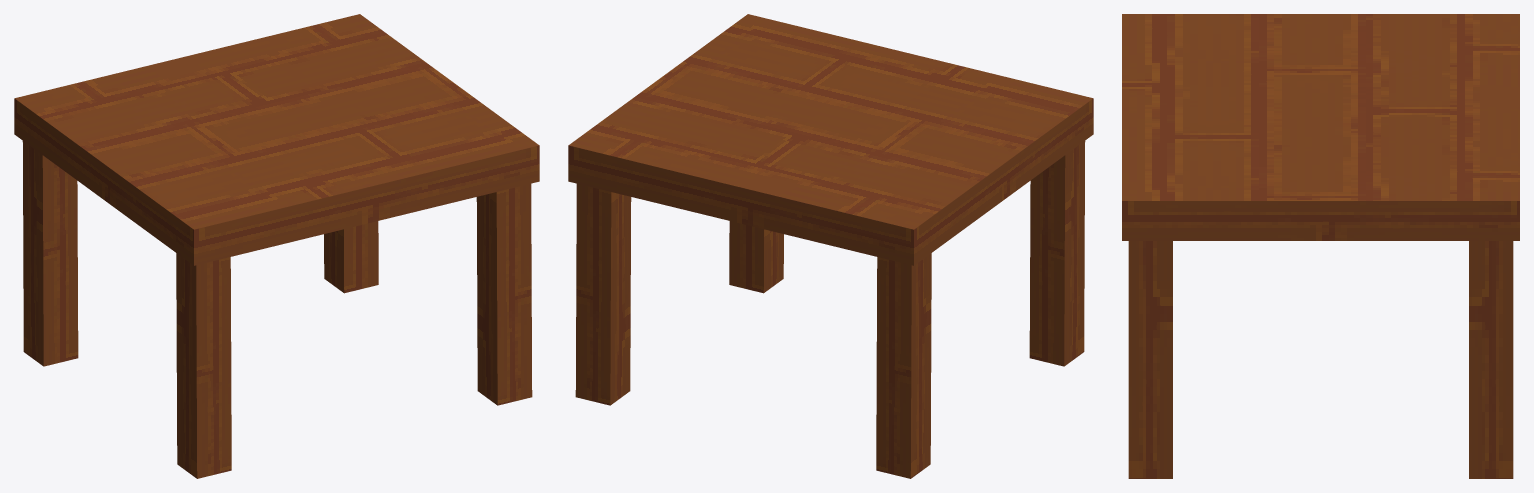
File: Table.fbx
The picture shows the model from 3 angles, left to right: view 1: azimuth 30°, elevation 25°; view 2: azimuth 150°, elevation 25°; view 3: azimuth 270°, elevation 25°; orthographic projection. The views are drawn at different scales.
Parts seen in each view (by area): view 1: Table; view 2: Table; view 3: Table.
Part boxes in pixels (box(x1,y1,x2,y2)): Table: box(14, 14, 539, 478); Table: box(568, 14, 1093, 478); Table: box(1122, 14, 1519, 478).
Bounding box in the file's own units: 1 × 0.6998 × 0.9.
